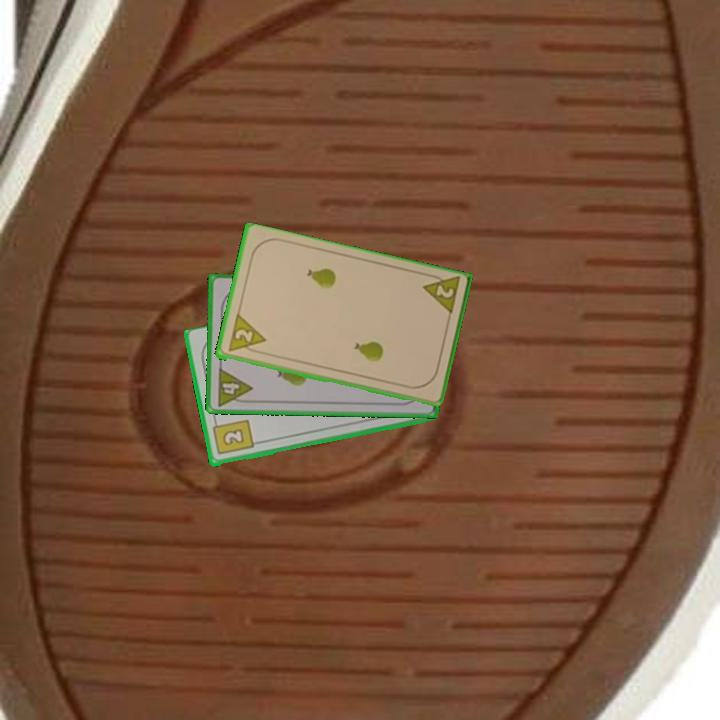2b: (209, 416, 256, 458)
2p: (224, 312, 268, 356), (432, 282, 457, 301)
4p: (213, 364, 255, 409)
